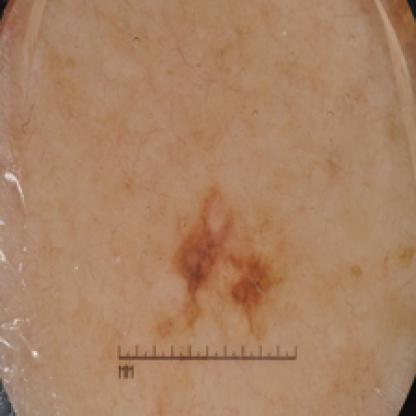malignant: (171, 176, 303, 320)
